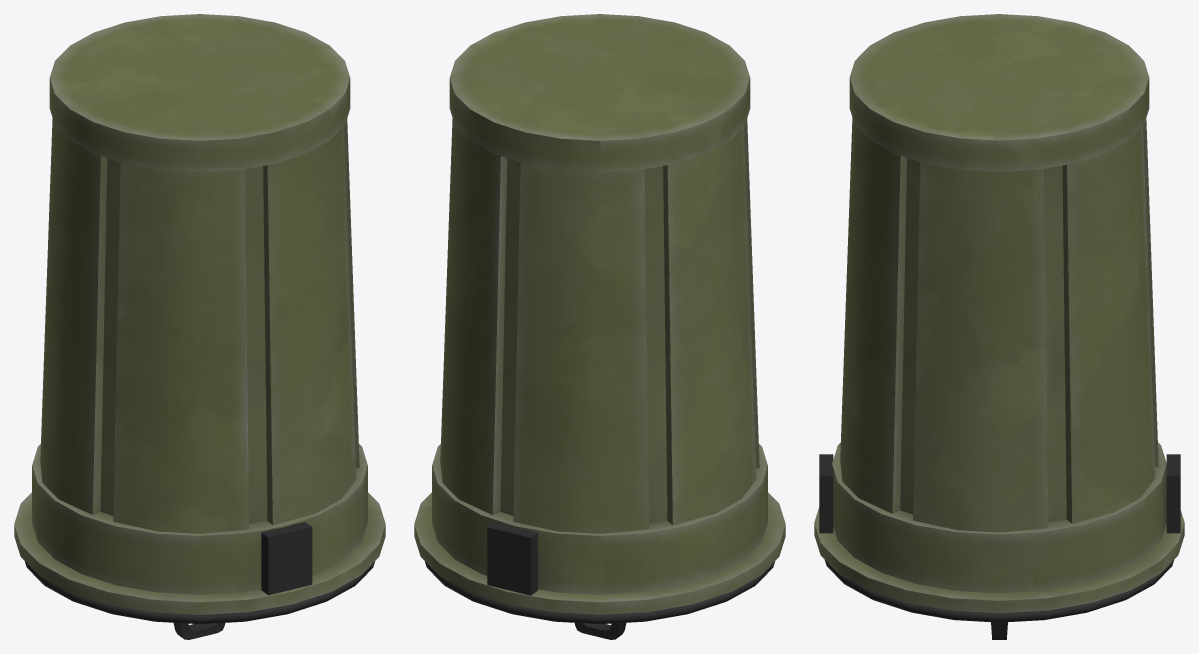
The model's file is anime-trash-can.glb.
The picture shows the model from 3 angles, left to right: view 1: azimuth 30°, elevation 25°; view 2: azimuth 150°, elevation 25°; view 3: azimuth 270°, elevation 25°; orthographic projection.
Parts seen in each view (by area): view 1: anime-trash-can; view 2: anime-trash-can; view 3: anime-trash-can.
Boxes of the visible parts, x1,y1,x2,y2 form: anime-trash-can: (14,14,385,639); anime-trash-can: (414,14,785,639); anime-trash-can: (814,14,1184,639).
Bounding box in the file's own units: 0.691 × 1.14 × 0.691.
Materials: 1 (1 with a texture image).
